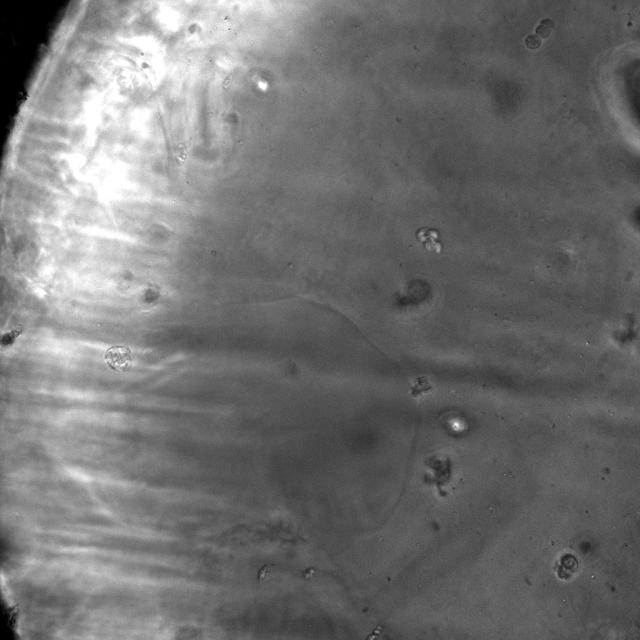organoid: (424, 454, 451, 495), (396, 278, 431, 307), (552, 549, 582, 581), (524, 18, 553, 48), (105, 346, 131, 372), (416, 227, 441, 252), (411, 375, 432, 398), (366, 625, 383, 639), (578, 540, 592, 554), (302, 566, 316, 580), (258, 565, 268, 579)
